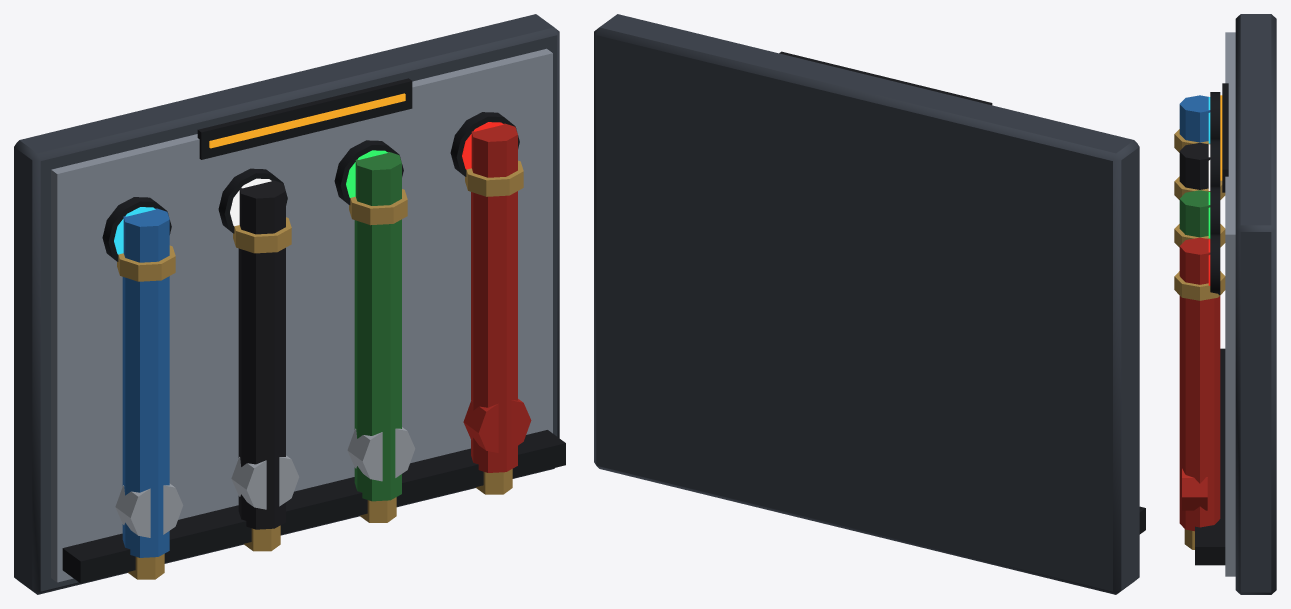
The model's file is cylinder_gas_manifold_panel.glb.
3 views of the same model, side by side, from view 1: azimuth 30°, elevation 25°; view 2: azimuth 150°, elevation 25°; view 3: azimuth 270°, elevation 25° (orthographic). The views are drawn at different scales.
Visible parts, largest first — view 1: cylinder_gas_manifold_panel; view 2: cylinder_gas_manifold_panel; view 3: cylinder_gas_manifold_panel.
Part boxes in pixels (x1,y1,x2,y2): cylinder_gas_manifold_panel: [14, 14, 565, 594]; cylinder_gas_manifold_panel: [594, 14, 1145, 594]; cylinder_gas_manifold_panel: [1174, 14, 1276, 594].
Bounding box in the file's own units: 1 × 0.8 × 0.2.
